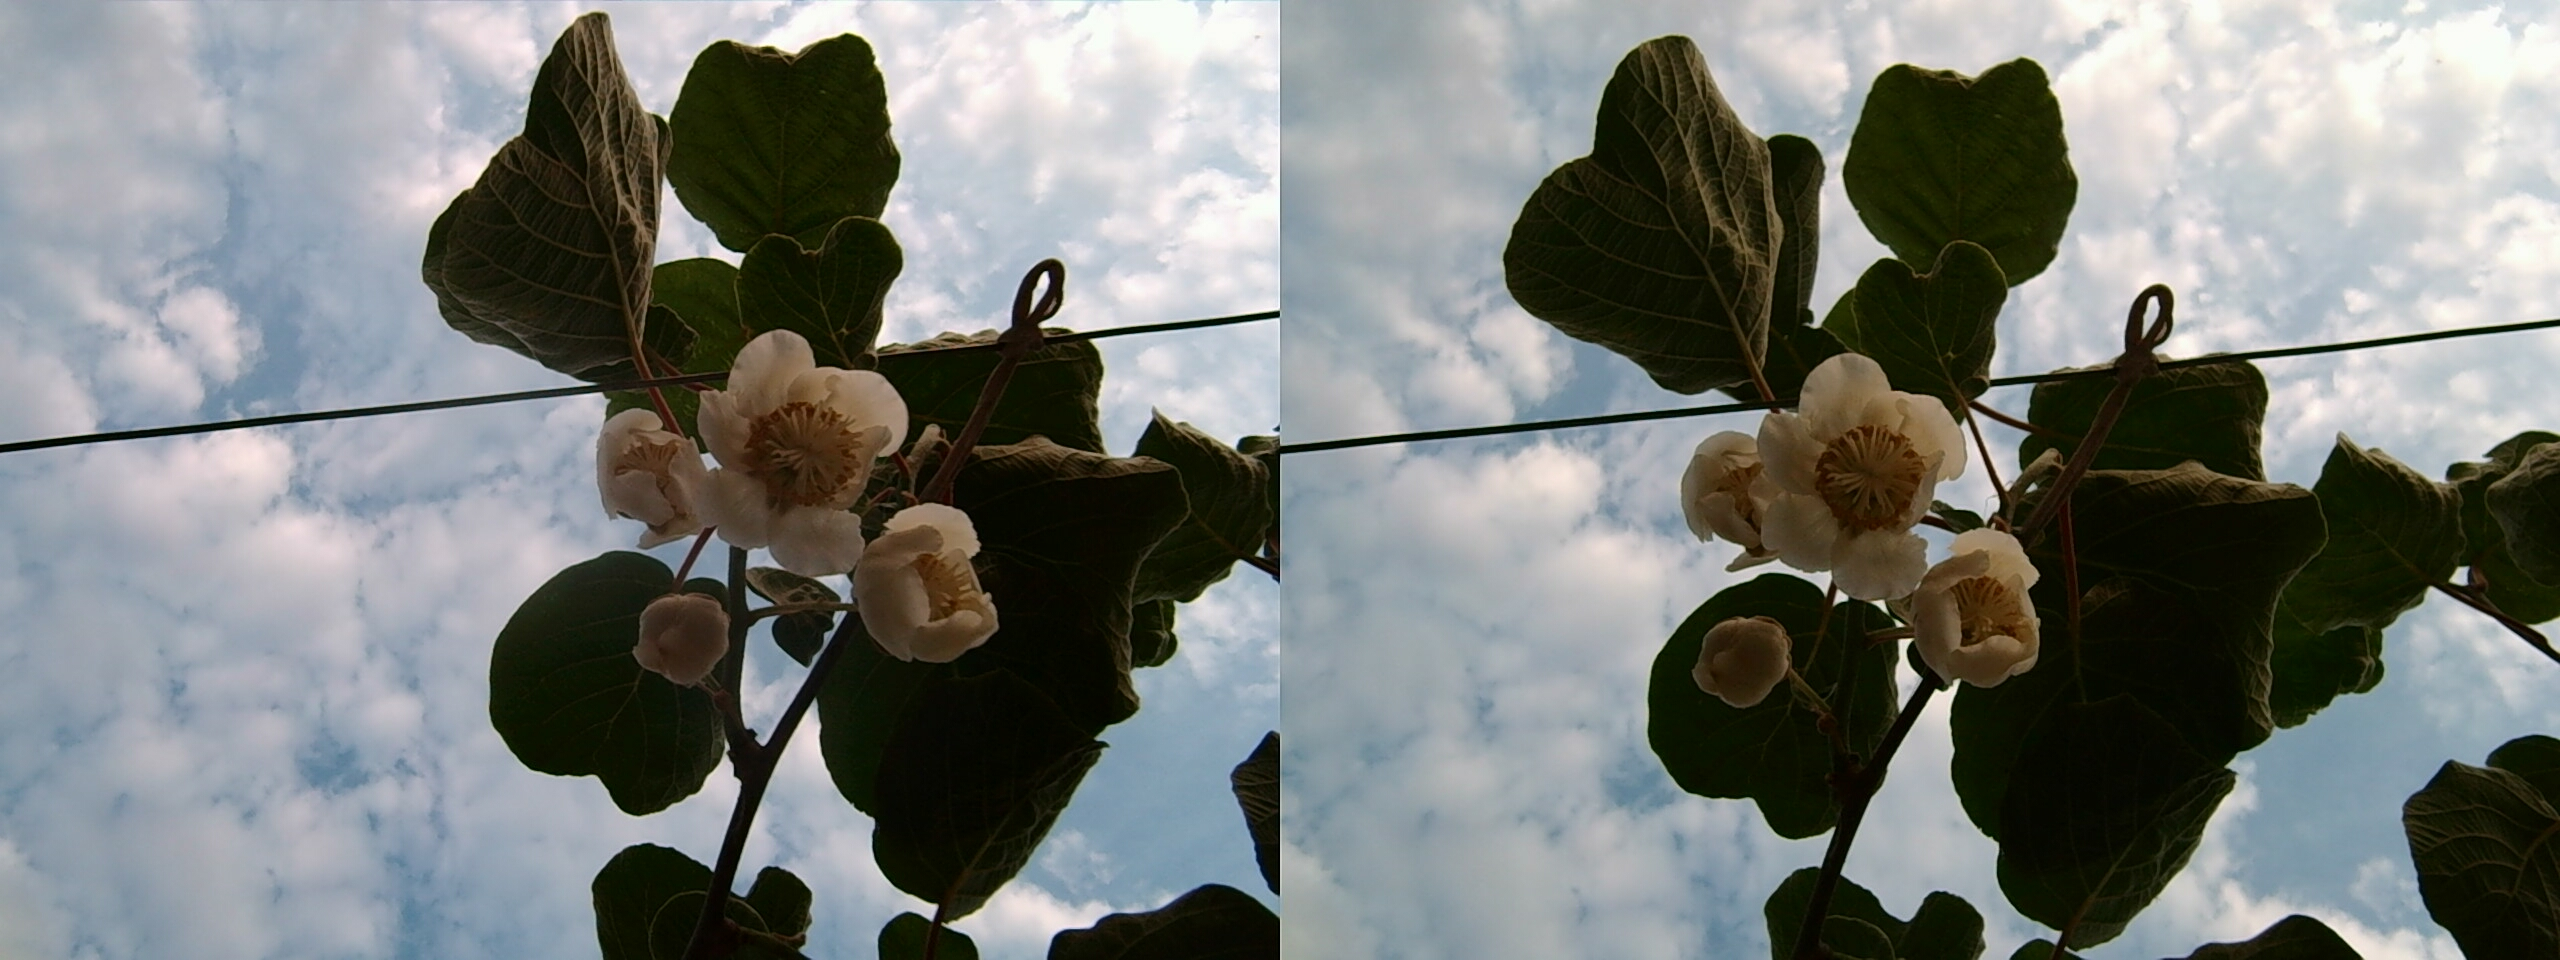flower: (1713, 346, 1967, 589), (682, 322, 909, 562), (847, 503, 996, 660), (1896, 526, 2044, 681), (596, 402, 713, 536)
